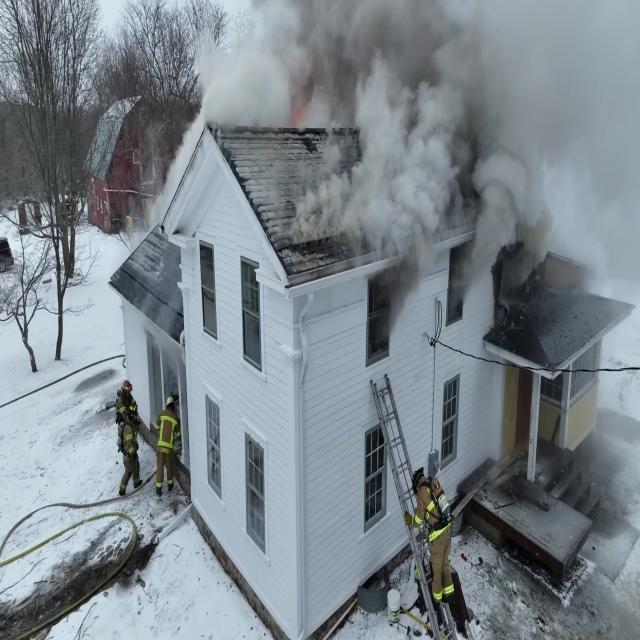smoke: (375, 18, 616, 179)
